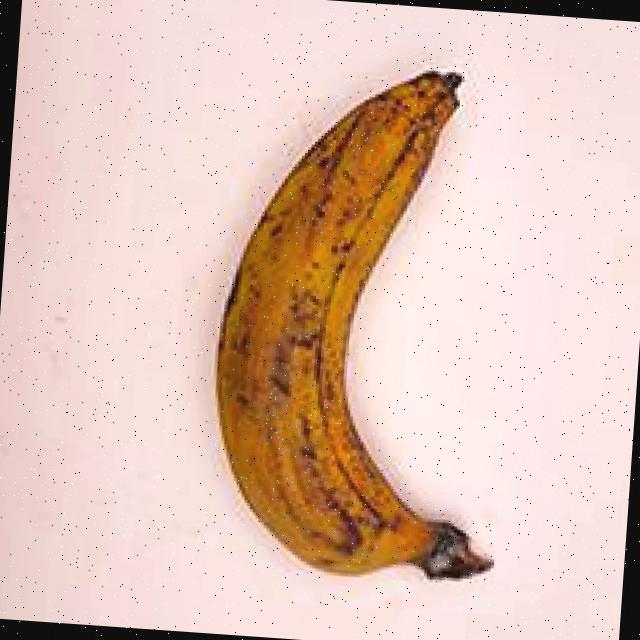Overripe: (176, 6, 571, 629)
